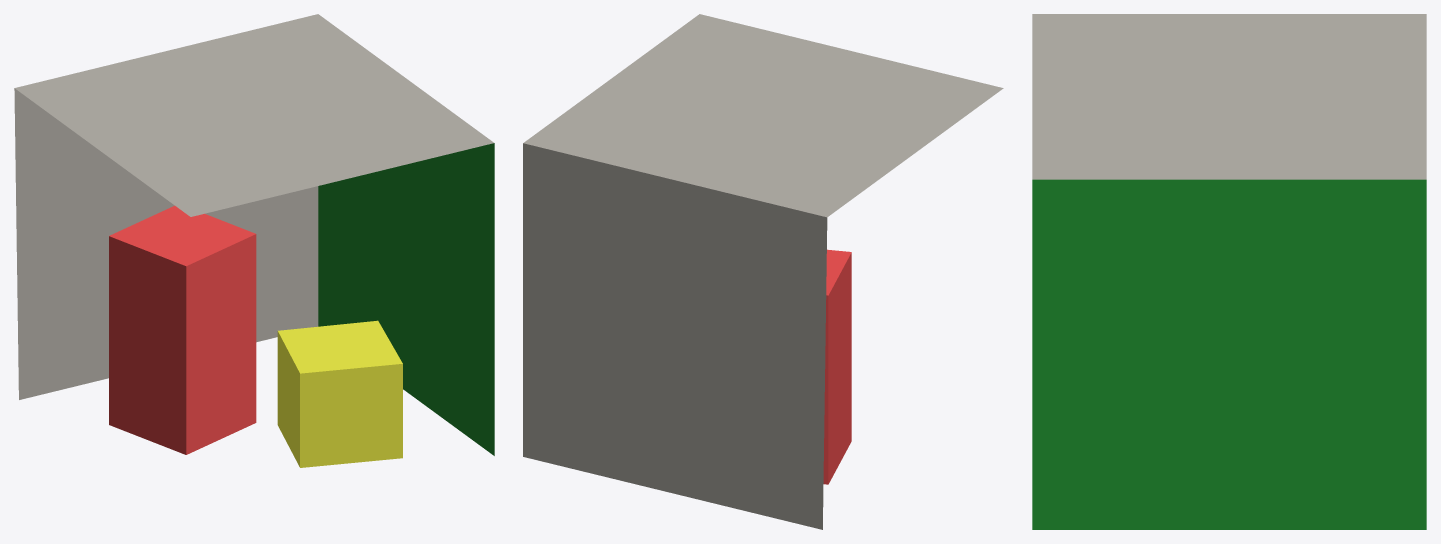
Rendered from CornellBox-Original.obj.
3 renders of one model, left to right at view 1: azimuth 30°, elevation 25°; view 2: azimuth 150°, elevation 25°; view 3: azimuth 270°, elevation 25°, orthographic. The views are drawn at different scales.
Visible parts, largest first — view 1: ceiling, rightWall, backWall, tallBox, shortBox; view 2: backWall, ceiling, tallBox; view 3: rightWall, ceiling.
Part boxes in pixels (<box>): ceiling: <box>15,14,493,216</box>; rightWall: <box>318,143,494,455</box>; backWall: <box>14,88,318,399</box>; tallBox: <box>109,205,256,454</box>; shortBox: <box>277,320,402,467</box>; backWall: <box>523,143,827,529</box>; ceiling: <box>523,14,1003,217</box>; tallBox: <box>823,249,851,484</box>; rightWall: <box>1032,179,1426,529</box>; ceiling: <box>1032,14,1426,179</box>.
Size of what is drawn, in the model's own units: 2.02 by 1.99 by 2.03.
